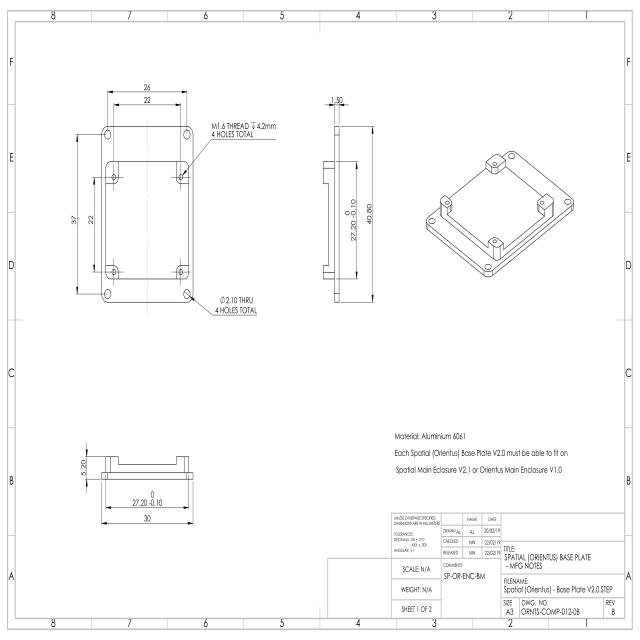dimension: (210, 121, 278, 139), (215, 296, 258, 314), (131, 490, 164, 508), (344, 197, 356, 242), (366, 202, 372, 225), (330, 95, 343, 105), (80, 458, 86, 478), (142, 94, 152, 104), (70, 214, 77, 228), (142, 82, 152, 91), (143, 513, 152, 523), (88, 214, 94, 226)
